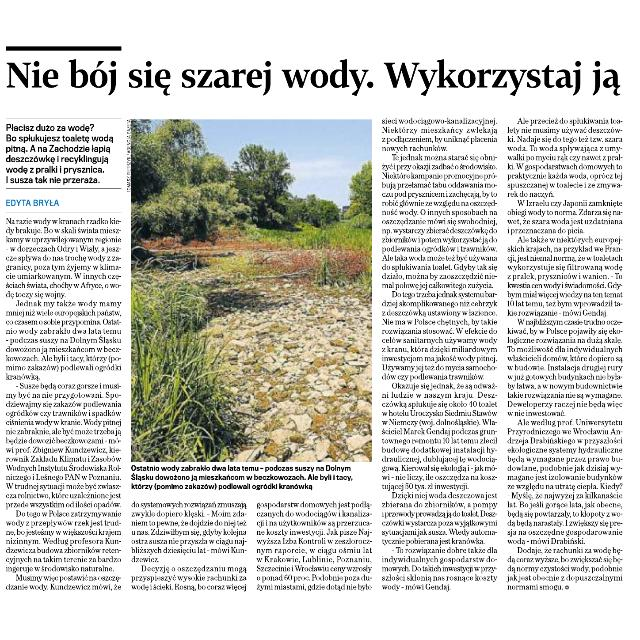author: (4, 194, 64, 208)
body: (375, 115, 501, 593), (504, 114, 628, 594), (2, 215, 128, 595), (252, 498, 376, 594), (128, 500, 250, 594)
caption: (130, 463, 356, 492)
image: (128, 117, 374, 463)
lead: (2, 119, 118, 187)
title: (3, 52, 627, 100)
